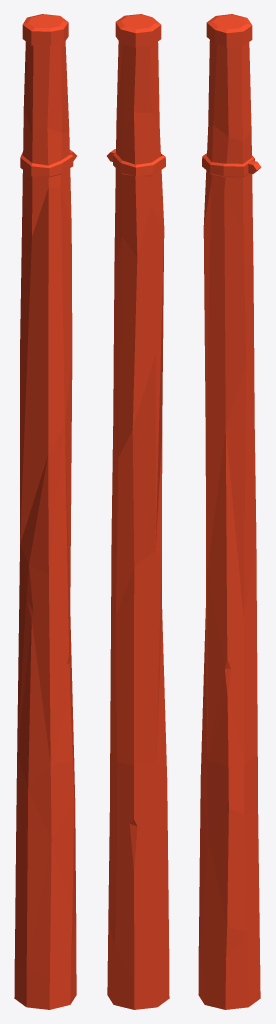
File: SM_Pole_Electric_C_City.fbx
3 renders of one model, left to right at view 1: azimuth 30°, elevation 25°; view 2: azimuth 150°, elevation 25°; view 3: azimuth 330°, elevation 25°, orthographic.
Visible parts, largest first — view 1: SM_Pole_Electric_C_City; view 2: SM_Pole_Electric_C_City; view 3: SM_Pole_Electric_C_City.
Part boxes in pixels (<box>): SM_Pole_Electric_C_City: <box>14,14,77,1009</box>; SM_Pole_Electric_C_City: <box>107,14,169,1009</box>; SM_Pole_Electric_C_City: <box>198,14,261,1009</box>.
Size of the model in its own units: 0.3524 by 6 by 0.325.
